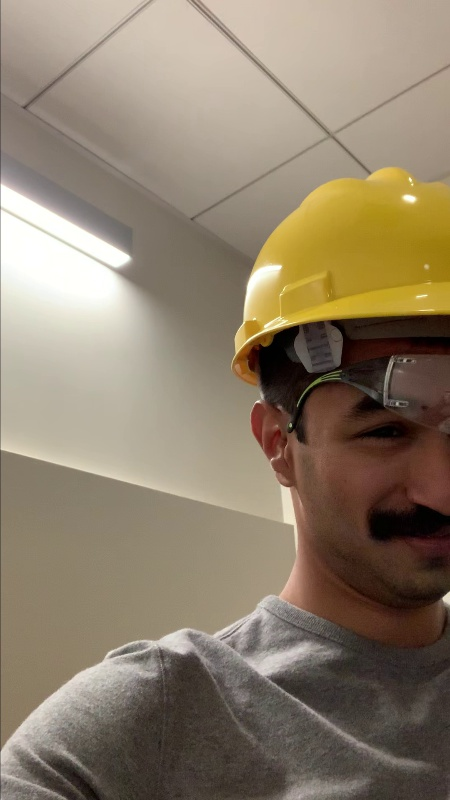helmet: (218, 162, 450, 354)
